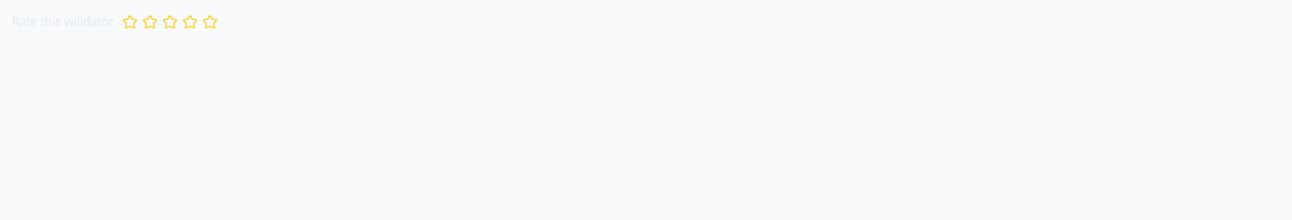
Scenario: QuickFeedback › shows the throttle message on 429
The width and height of the screenshot is (1292, 220).
Click the radio button named "Rate 1 of 5": {"x": 130, "y": 22} [120,12,140,32]
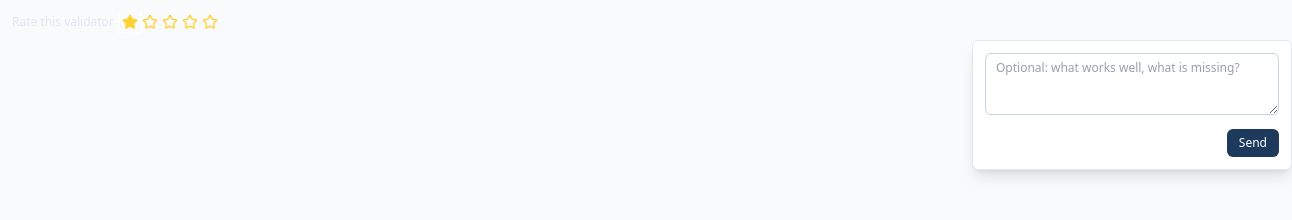
Click the button "Send": {"x": 1253, "y": 143} [1227,129,1279,157]
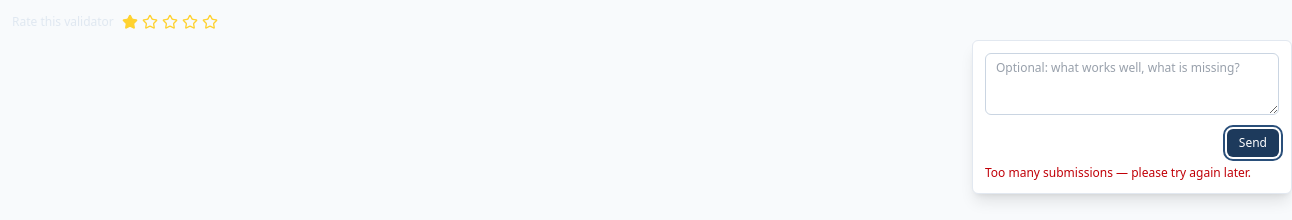
Check: the button "Send" is shown, box [1227,129,1279,157]
Check: the text "Too many submissions — please try again later." is shown, box [985,165,1279,181]
